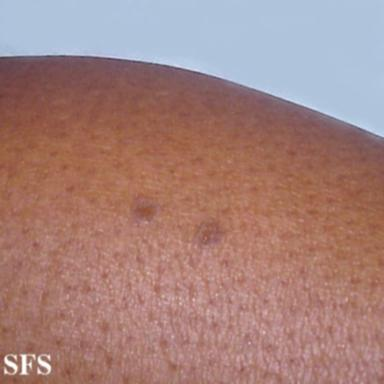Porokeratosis: (131, 198, 161, 223), (196, 222, 221, 247)
